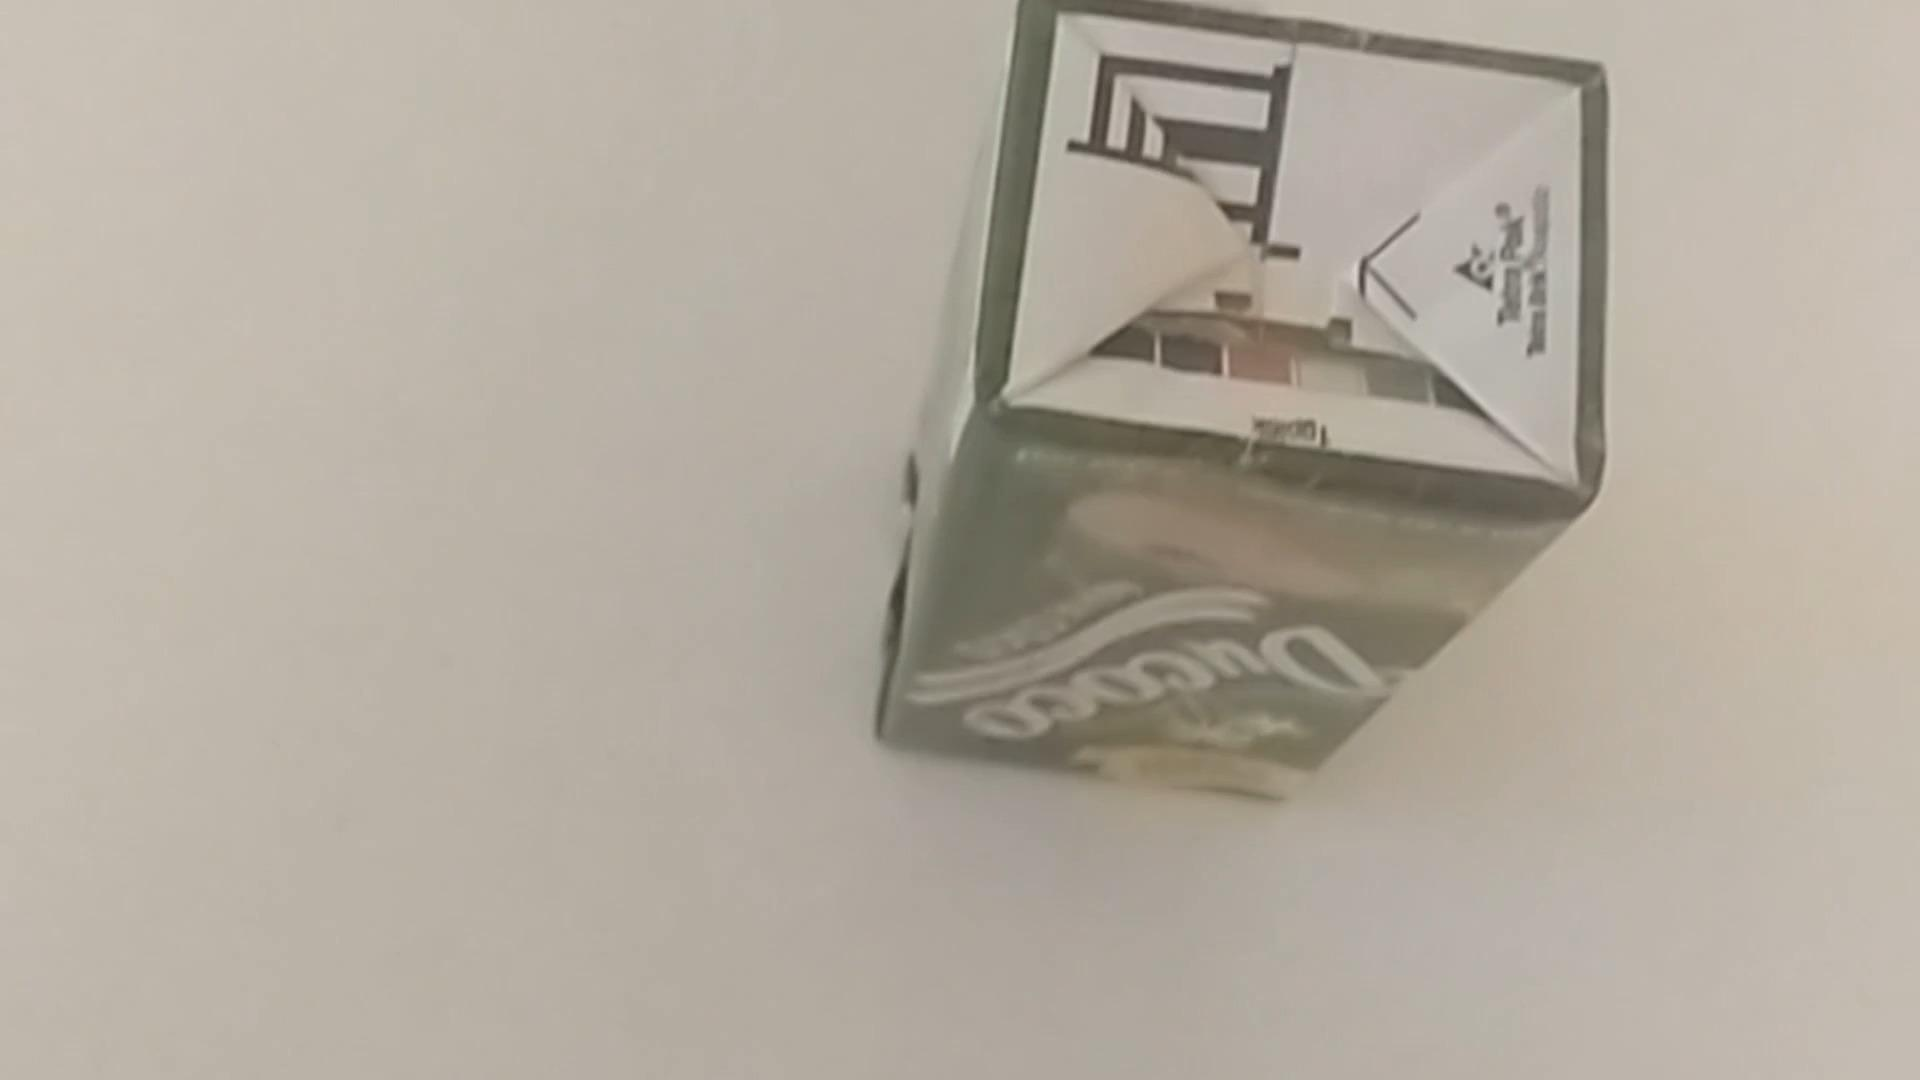coco: (866, 7, 1601, 803)
